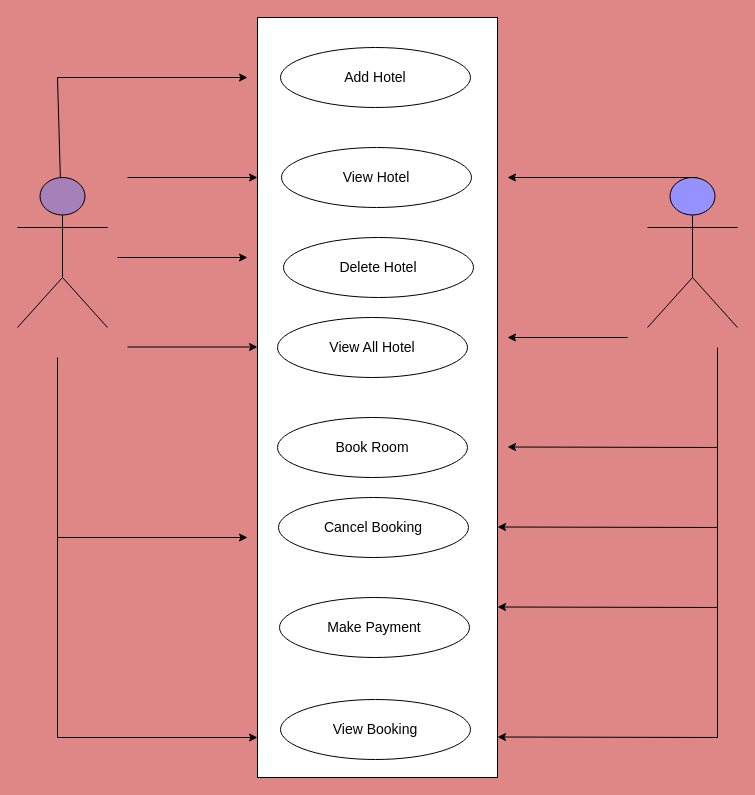
The diagram is 755 pixels wide and 795 high, and some of its shapes have lost their labels. The shapes that lost their labels are listed below. From the top down, each one's centre as x and y in pixels, then its label:
At (x=62, y=252): "Admin".
At (x=692, y=252): "User".
